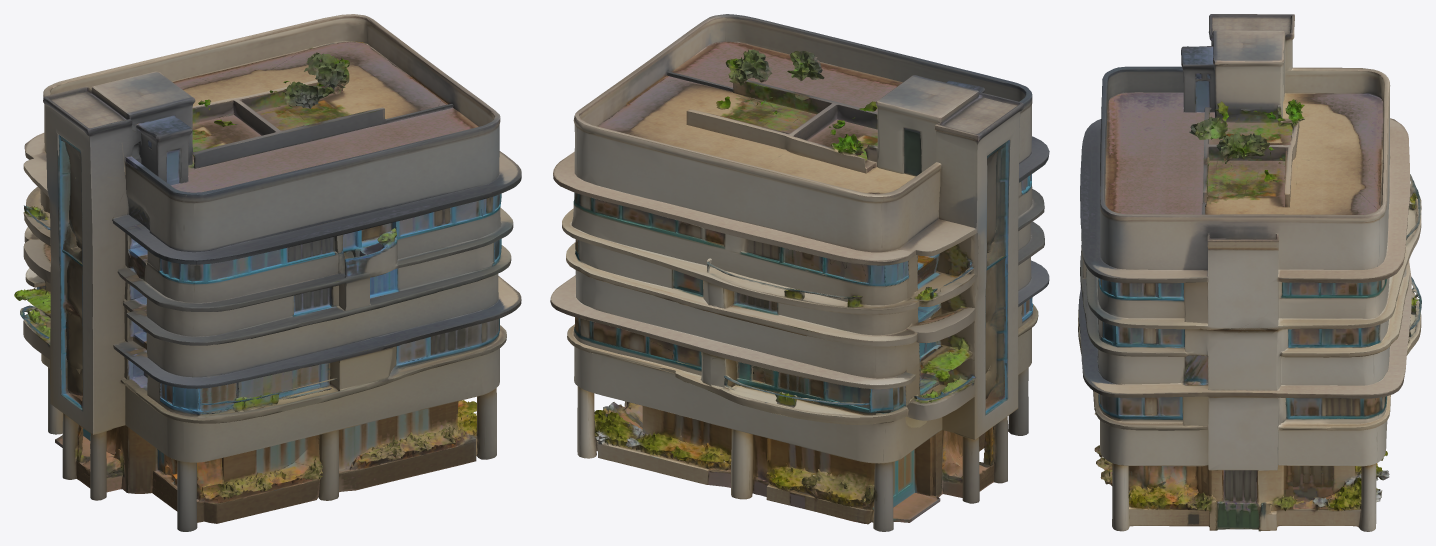
The model's file is v3_liebling_house.glb.
The picture shows the model from 3 angles, left to right: view 1: azimuth 30°, elevation 25°; view 2: azimuth 150°, elevation 25°; view 3: azimuth 270°, elevation 25°; orthographic projection. The views are drawn at different scales.
Visible parts, largest first — view 1: geometry_0; view 2: geometry_0; view 3: geometry_0.
Boxes of the visible parts, <box> form: geometry_0: <box>14,14,521,531</box>; geometry_0: <box>550,14,1049,531</box>; geometry_0: <box>1078,14,1421,531</box>.
Bounding box in the file's own units: 17 × 16 × 14.
1 material, 1 textured.
